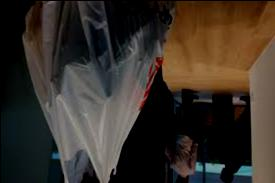Plastic: (18, 1, 176, 182)
